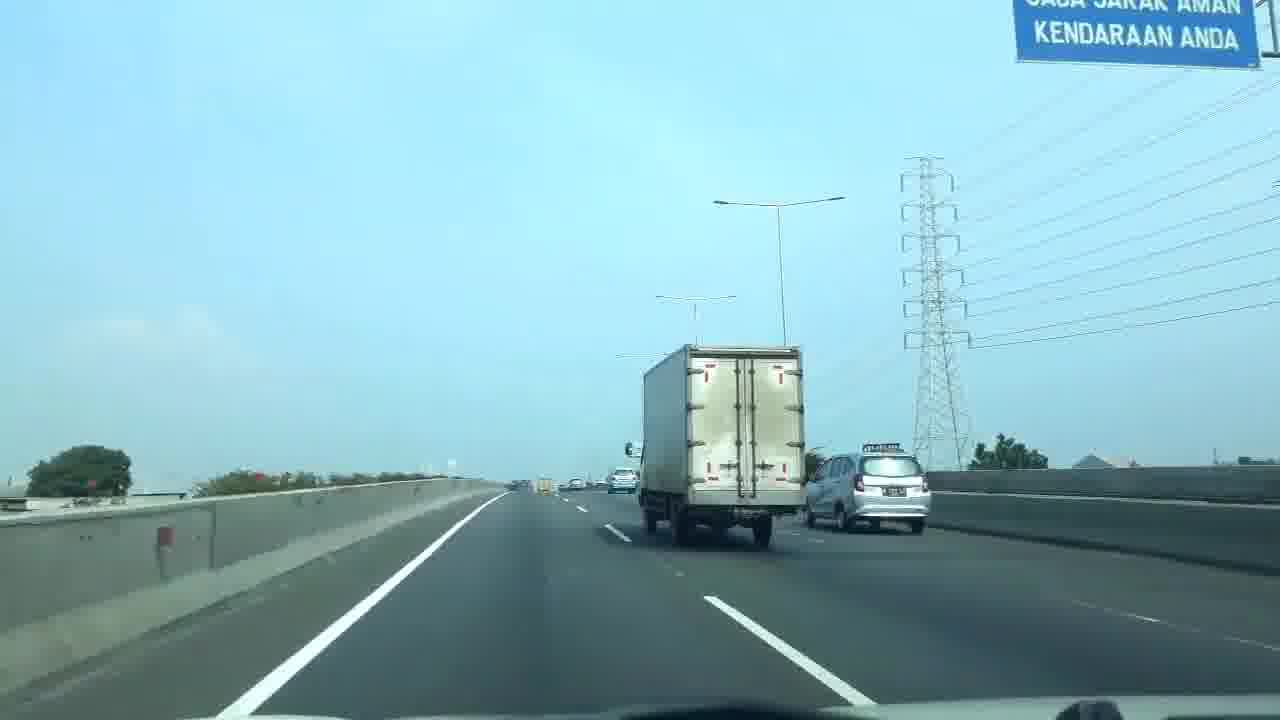plate_positive: (883, 486, 907, 497)
